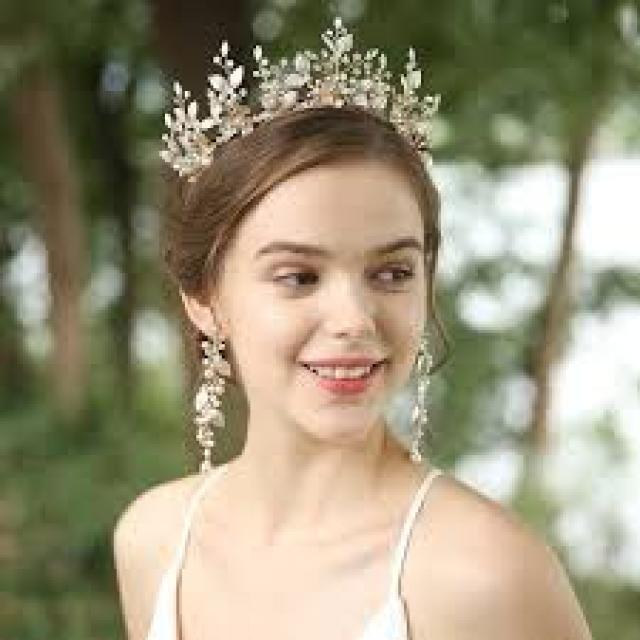Earring: (184, 302, 247, 500), (395, 330, 439, 470)
